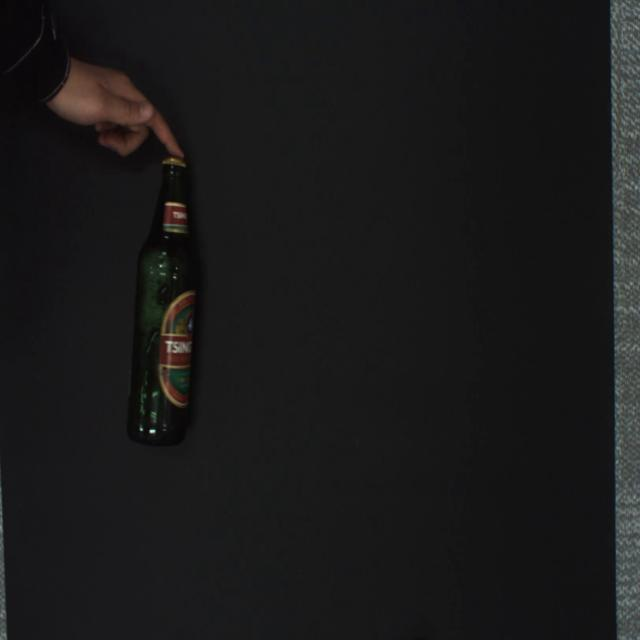beer-bottle: (127, 155, 198, 448)
